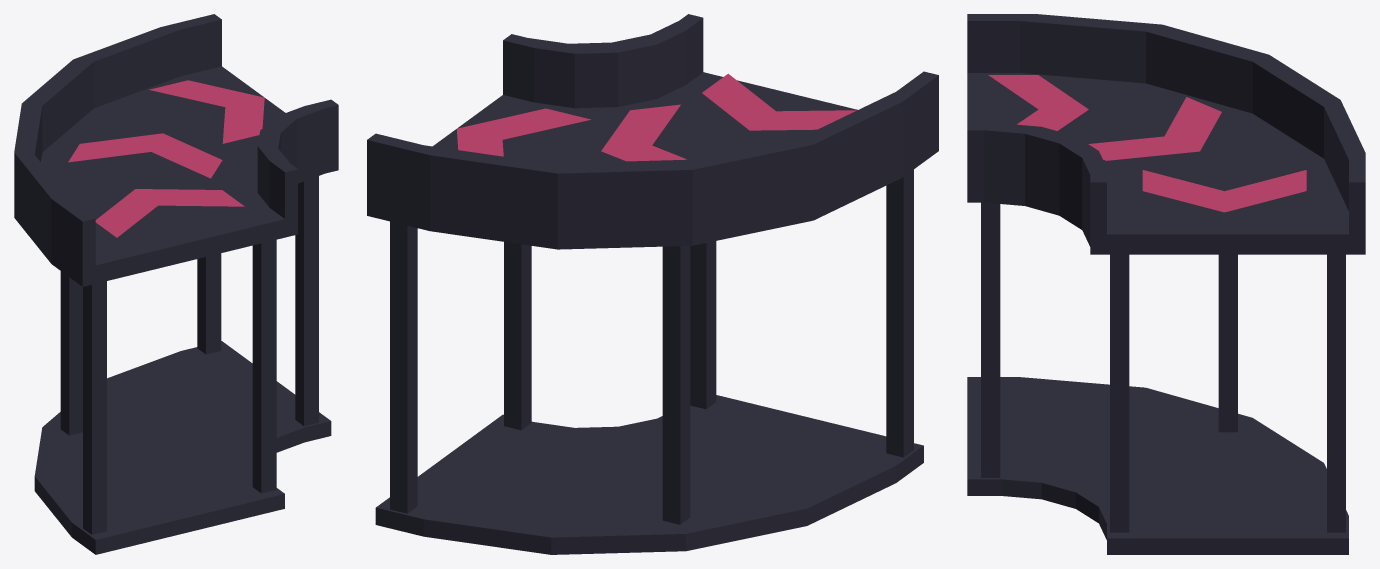
File: conv-right.glb
3 renders of one model, left to right at view 1: azimuth 30°, elevation 25°; view 2: azimuth 150°, elevation 25°; view 3: azimuth 270°, elevation 25°, orthographic. The views are drawn at different scales.
Parts seen in each view (by area): view 1: conv-right; view 2: conv-right; view 3: conv-right.
Boxes of the visible parts, bbox=[...] form: conv-right: bbox=[14, 14, 338, 554]; conv-right: bbox=[367, 14, 938, 554]; conv-right: bbox=[967, 14, 1365, 554].
Bounding box in the file's own units: 0.764 × 0.7882 × 0.764.
Materials: 1 (1 with a texture image).
